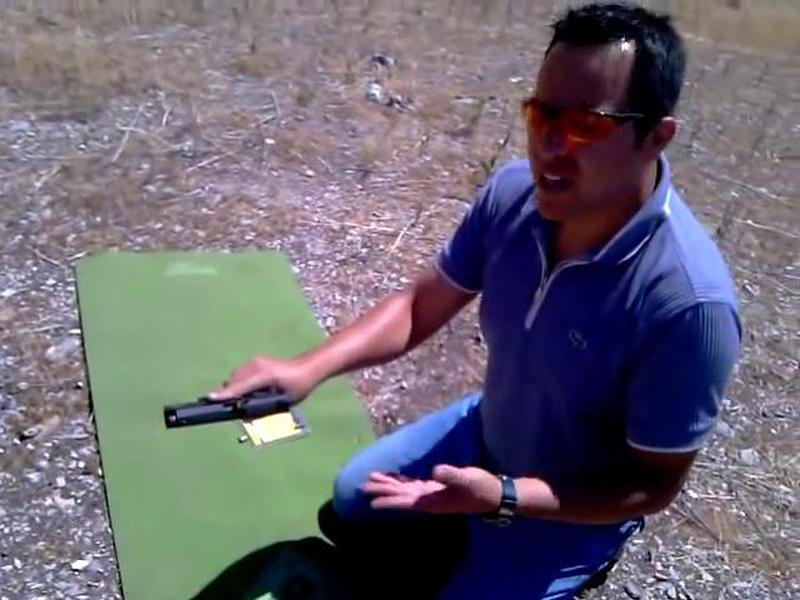Pistola: (139, 353, 329, 471)
